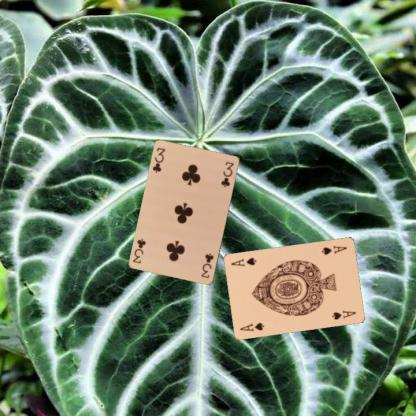3c: (150, 145, 167, 174), (199, 250, 215, 280)
As: (319, 243, 348, 256), (237, 320, 266, 332)
